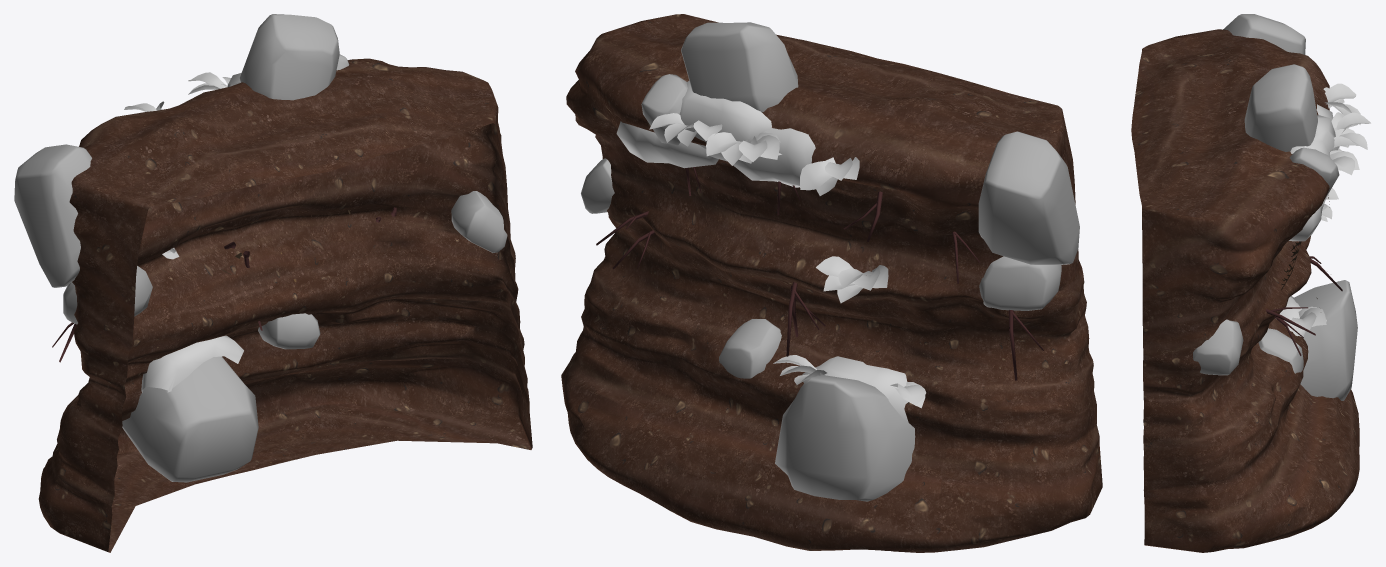
Rendered from Jordvgg_mitt1.fbx.
3 renders of one model, left to right at view 1: azimuth 30°, elevation 25°; view 2: azimuth 150°, elevation 25°; view 3: azimuth 270°, elevation 25°, orthographic. The views are drawn at different scales.
Visible parts, largest first — view 1: Cliffstone:polySurface4778; view 2: Cliffstone:polySurface4778; view 3: Cliffstone:polySurface4778.
Part boxes in pixels (x1,y1,x2,y2): Cliffstone:polySurface4778: [14, 14, 532, 552]; Cliffstone:polySurface4778: [561, 14, 1102, 552]; Cliffstone:polySurface4778: [1131, 14, 1370, 552].
Size of the model in its own units: 550 by 485 by 253.
